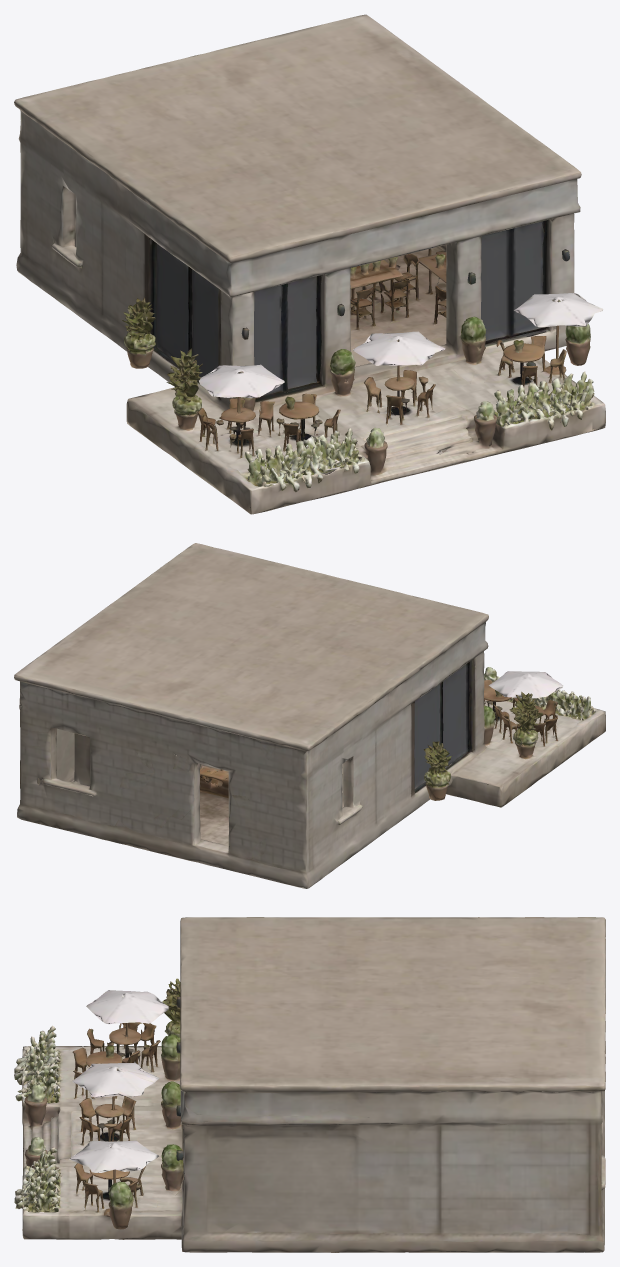
File: coast.glb
3 renders of one model, top to bottom at view 1: azimuth 30°, elevation 25°; view 2: azimuth 150°, elevation 25°; view 3: azimuth 270°, elevation 25°, orthographic. The views are drawn at different scales.
Bounding box in the file's own units: 0.7944 × 0.3387 × 0.9983.
1 material, 1 textured.
